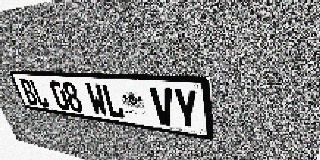0: (48, 80, 71, 111)
8: (61, 81, 84, 113)
B: (18, 79, 39, 106)
L: (100, 84, 126, 119), (28, 79, 50, 108)
V: (149, 87, 176, 127)
W: (84, 83, 109, 117)
Y: (172, 88, 200, 130)
